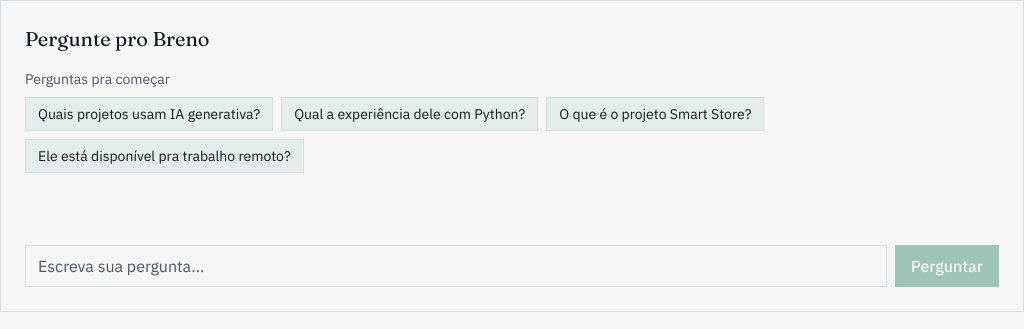
Scenario: Chat › shows a generic error message on a network failure
In the field with placeholder "Escreva sua pergunta...": x=456, y=266 [25,245,887,287], type "Oi"
Then press Enter
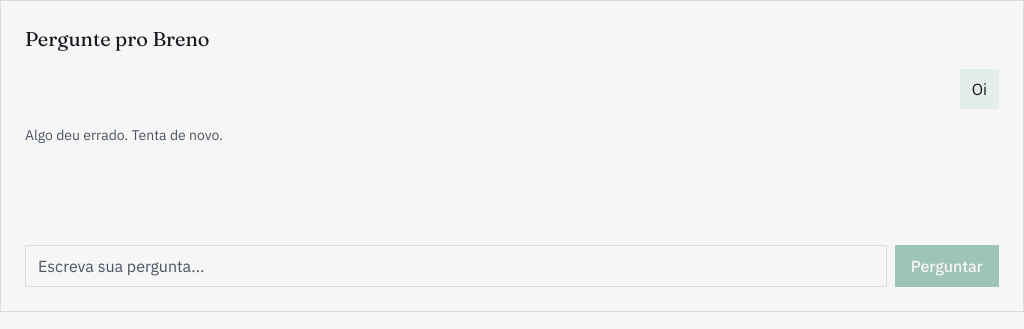
Now the text "Algo deu errado. Tenta de novo." is shown, box [25,126,223,144]
